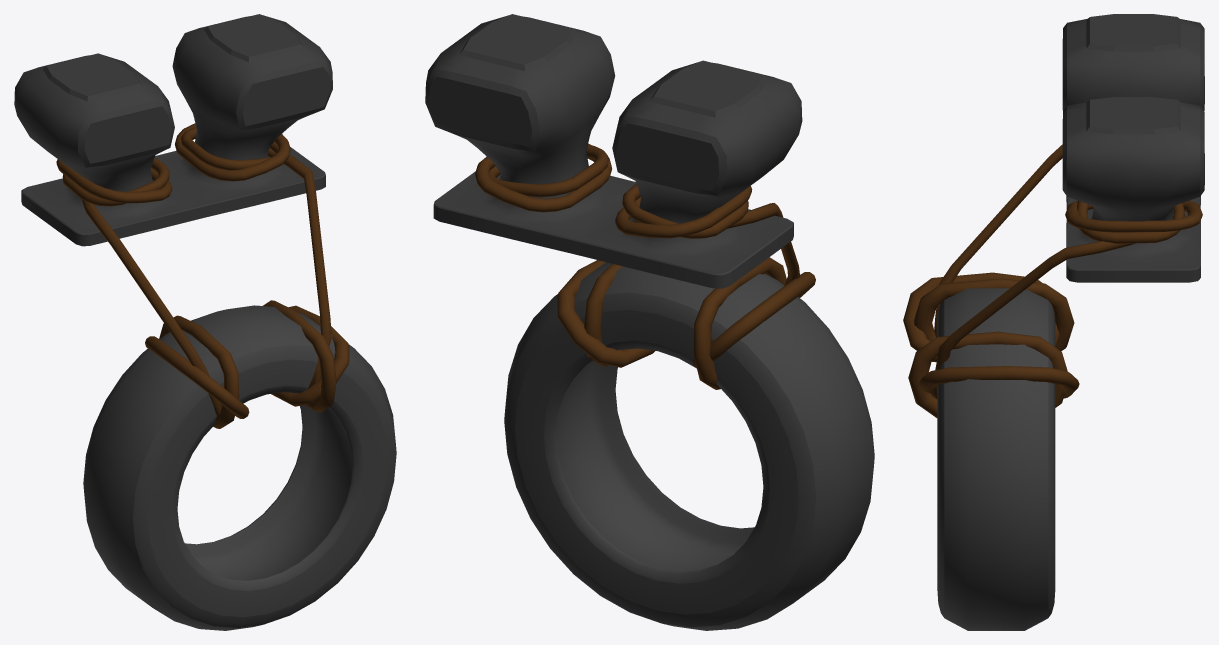
The model's file is Tire-M00A.fbx.
The picture shows the model from 3 angles, left to right: view 1: azimuth 30°, elevation 25°; view 2: azimuth 150°, elevation 25°; view 3: azimuth 270°, elevation 25°; orthographic projection. The views are drawn at different scales.
Visible parts, largest first — view 1: Tire-M00A; view 2: Tire-M00A; view 3: Tire-M00A.
Part boxes in pixels (box(x1,y1,x2,y2)): Tire-M00A: box(14, 14, 396, 630); Tire-M00A: box(425, 14, 874, 630); Tire-M00A: box(903, 14, 1204, 630).
Size of the model in its own units: 59.62 by 103 by 51.88.
